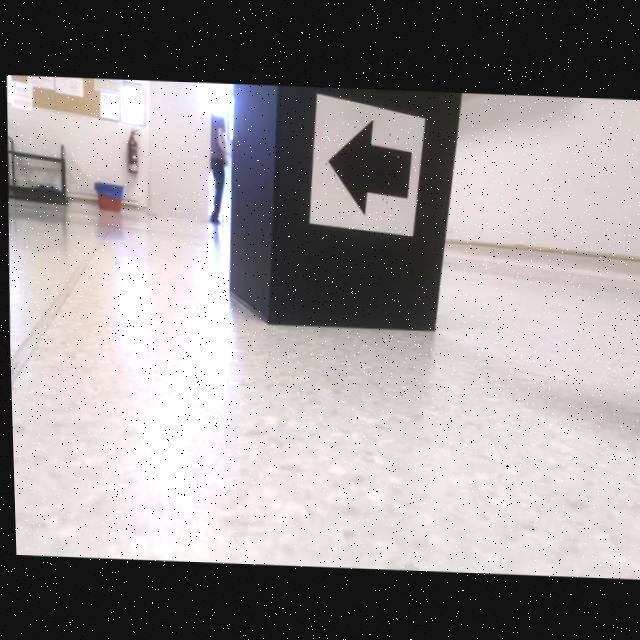LEFT: (325, 117, 411, 215)
